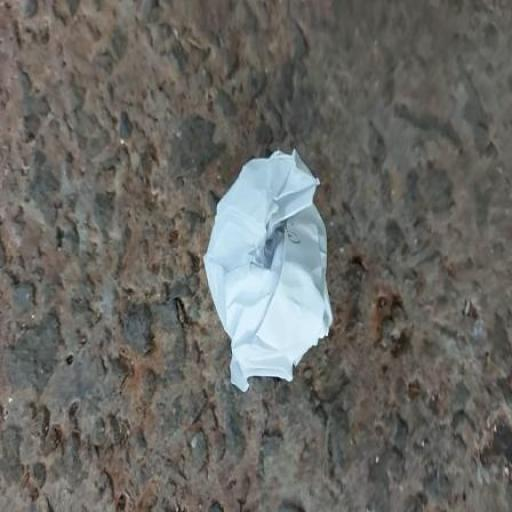paper: (126, 100, 476, 494)
